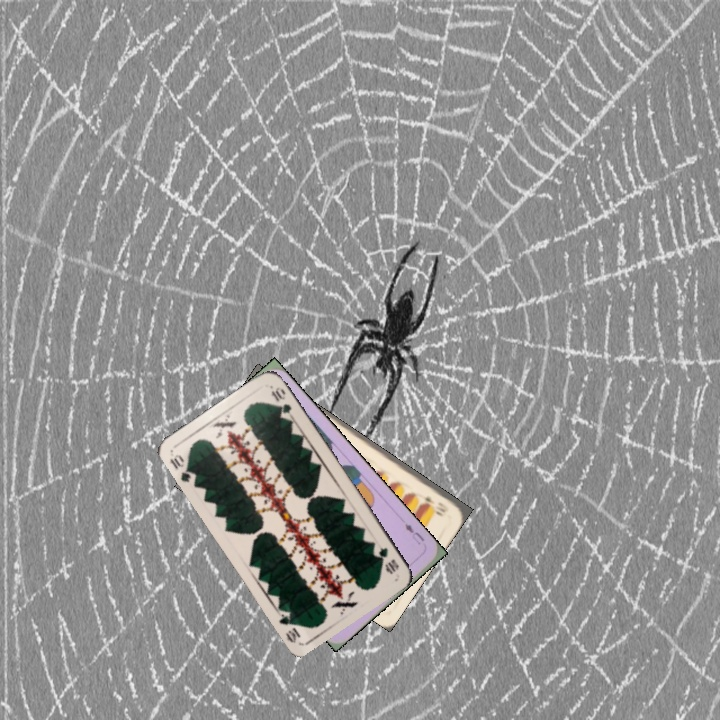E10: (421, 493, 451, 515)
EU: (398, 516, 427, 548)
G10: (166, 450, 199, 485), (374, 543, 401, 576)
